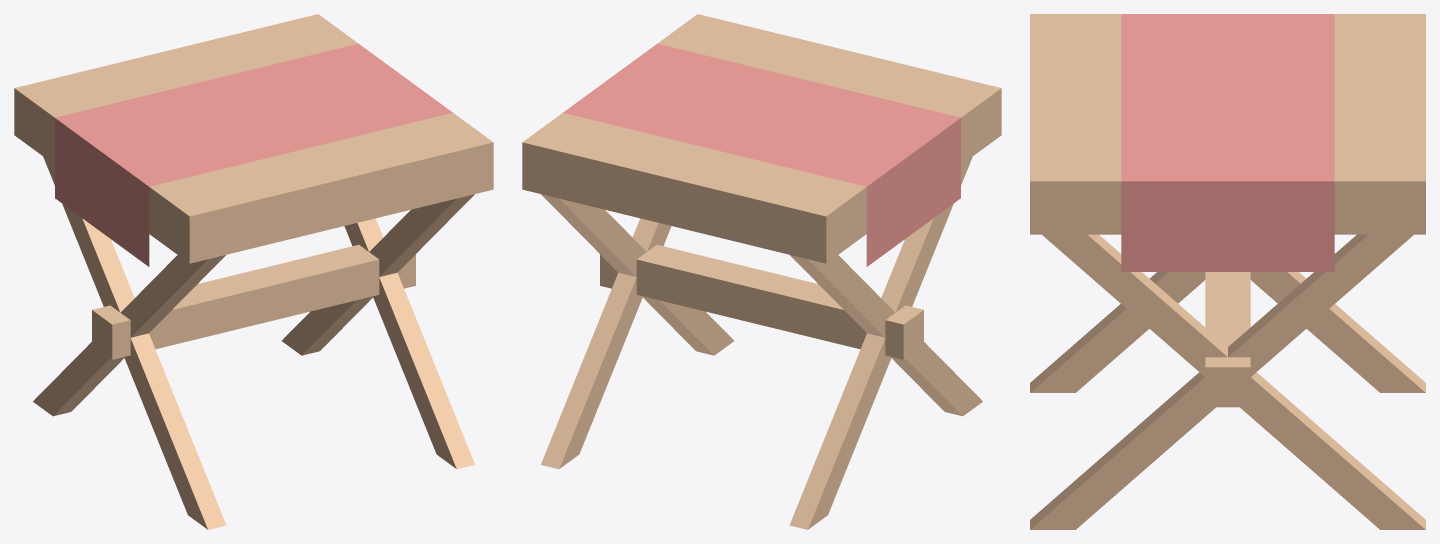
File: kn-table-cross-cloth.glb
The picture shows the model from 3 angles, left to right: view 1: azimuth 30°, elevation 25°; view 2: azimuth 150°, elevation 25°; view 3: azimuth 270°, elevation 25°; orthographic projection. The views are drawn at different scales.
Visible parts, largest first — view 1: tableCrossCloth(Clone); view 2: tableCrossCloth(Clone); view 3: tableCrossCloth(Clone).
Part boxes in pixels (x1,y1,x2,y2): tableCrossCloth(Clone): [14, 14, 493, 529]; tableCrossCloth(Clone): [522, 14, 1001, 529]; tableCrossCloth(Clone): [1030, 14, 1425, 529].
Bounding box in the file's own units: 1 × 1 × 1.
